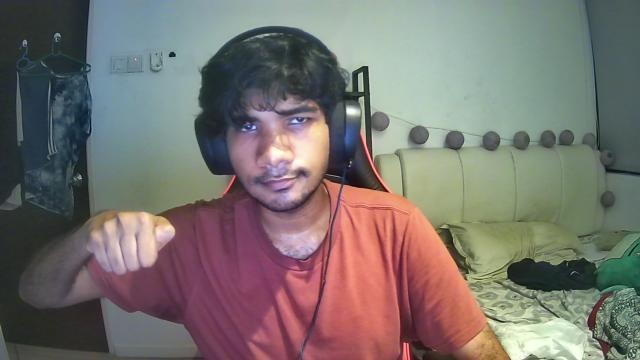Yes: (82, 202, 179, 275)
